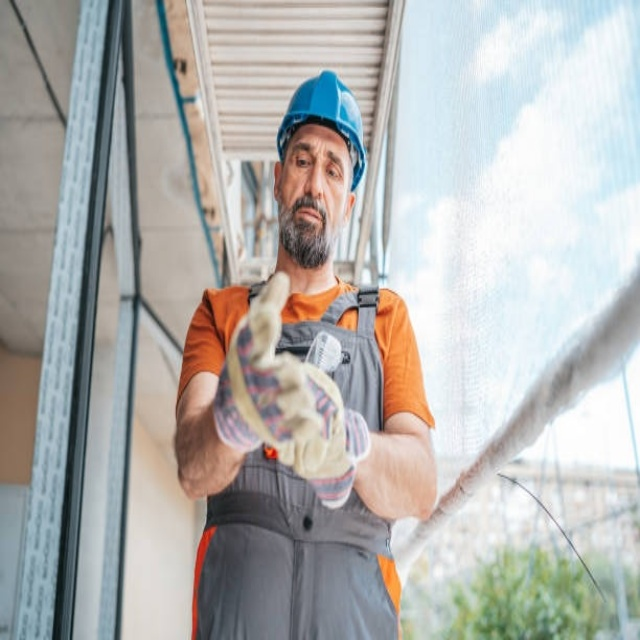Guantes: (211, 264, 370, 522)
Sin_gafas: (288, 138, 347, 195)
Sin_mascara: (290, 199, 329, 249)
